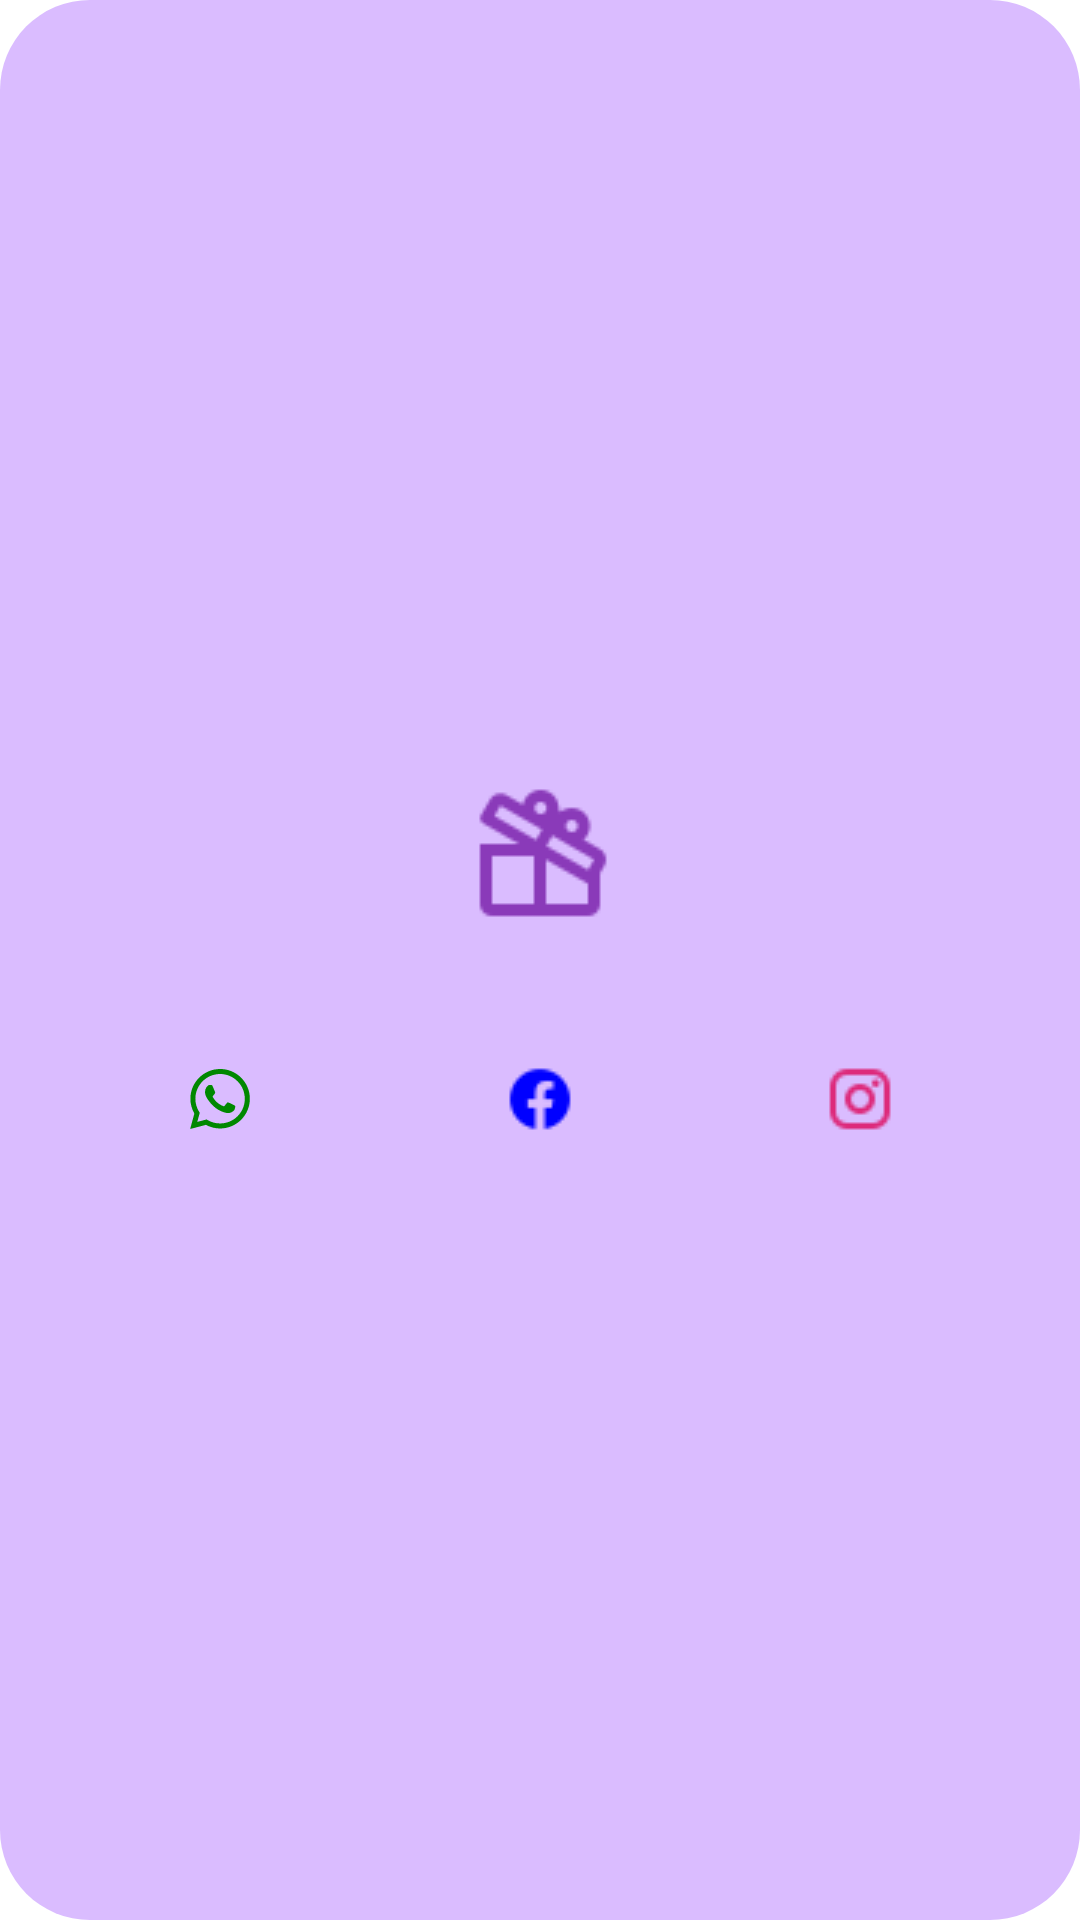

Screen size 1080×1920. Icon name, then its box in pixels as (x1, y1, x2, y2):
gift: (479, 789, 607, 917)
